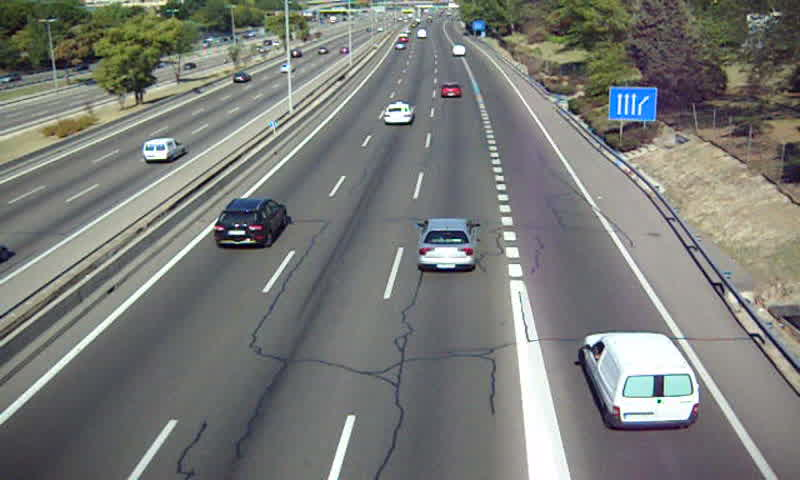car: (213, 198, 288, 249), (417, 219, 477, 272), (384, 101, 413, 125), (441, 82, 462, 99)
van: (578, 332, 701, 431)
